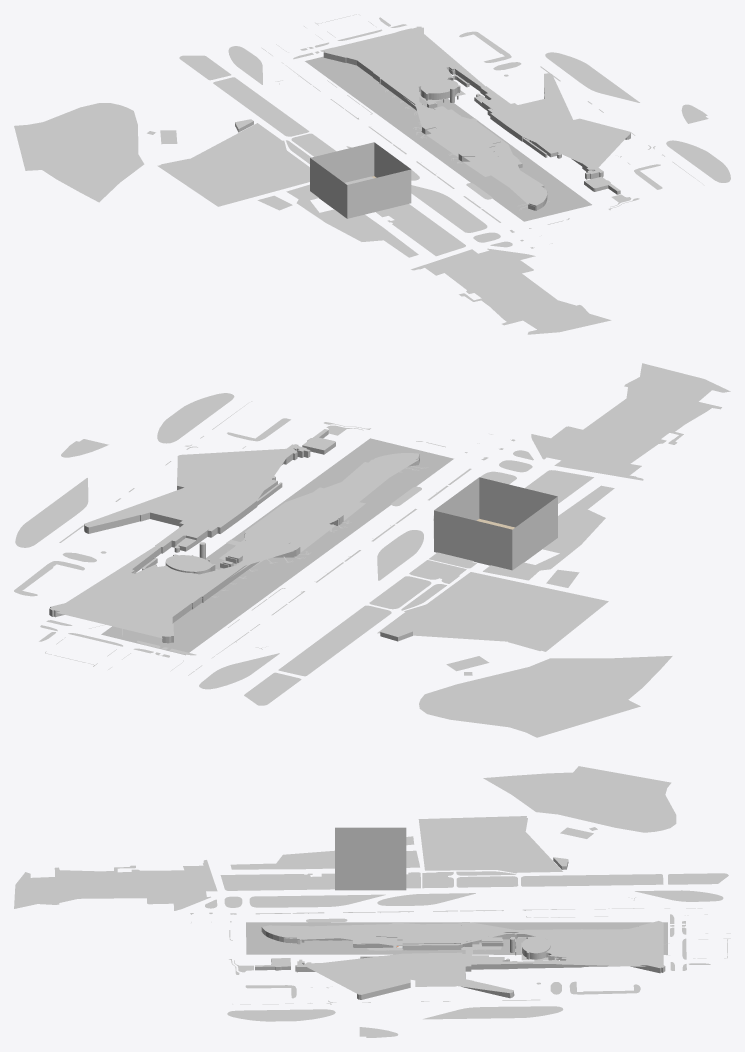
Rendered from airport_architectural.fbx.
3 views of the same model, one above another, from view 1: azimuth 30°, elevation 25°; view 2: azimuth 150°, elevation 25°; view 3: azimuth 270°, elevation 25° (orthographic). The views are drawn at different scales.
Parts seen in each view (by area): view 1: Areas:landuse, Areas:building, Areas:natural, EXPORT_GOOGLE_SAT_WM, Carpet, _T3L2_lin__Roof_4326; view 2: Areas:landuse, Areas:building, Areas:natural, EXPORT_GOOGLE_SAT_WM, Carpet, _T3L2_lin__Roof_4326; view 3: Areas:landuse, Areas:building, Areas:natural, EXPORT_GOOGLE_SAT_WM, Carpet, _T3L2_lin__Roof_4326, Changi Airport Terminal 3.
Boxes of the visible parts, x1,y1,x2,y2 form: Areas:landuse: [14, 17, 708, 334]; Areas:building: [323, 26, 630, 210]; Areas:natural: [161, 14, 730, 248]; EXPORT_GOOGLE_SAT_WM: [305, 56, 591, 221]; Carpet: [310, 142, 411, 218]; _T3L2_lin__Roof_4326: [404, 97, 546, 191]; Areas:landuse: [14, 363, 730, 737]; Areas:building: [49, 429, 419, 643]; Areas:natural: [45, 393, 607, 705]; EXPORT_GOOGLE_SAT_WM: [101, 438, 453, 655]; Carpet: [434, 477, 557, 570]; _T3L2_lin__Roof_4326: [231, 458, 417, 576]; Areas:landuse: [14, 766, 723, 1037]; Areas:building: [255, 921, 665, 999]; Areas:natural: [190, 818, 730, 1021]; EXPORT_GOOGLE_SAT_WM: [246, 922, 667, 954]; Carpet: [335, 827, 406, 890]; _T3L2_lin__Roof_4326: [285, 923, 523, 945]; Changi Airport Terminal 3: [284, 934, 516, 950].
Size of the model in its own units: 33834 by 2096 by 38186.
